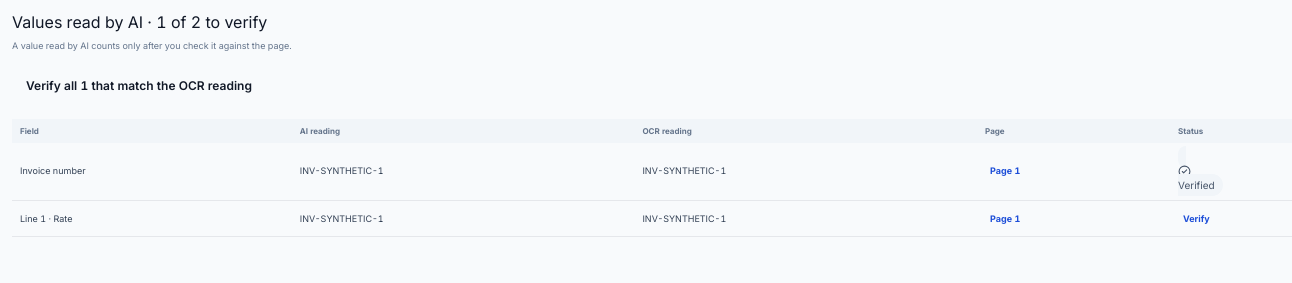
Test: verify values read by AI (PD-4d) › shows a verified value as verified with no button, and the server's refusal as an alert
This screenshot has width=1292, height=283.
Expected: the heading "Values read by AI · 1 of 2 to verify" is shown, [12,12,267,32]
Click the button with aria-label "Verify Line 1 · Rate" at (1196,218), box [1178,208,1215,229]
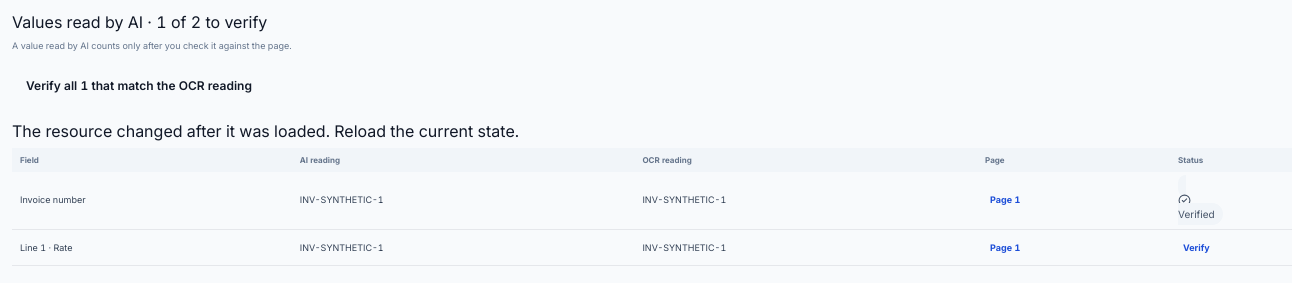
Result: the message reads "The resource changed after it was loaded. Reload the current state." at [12,120,519,140]
